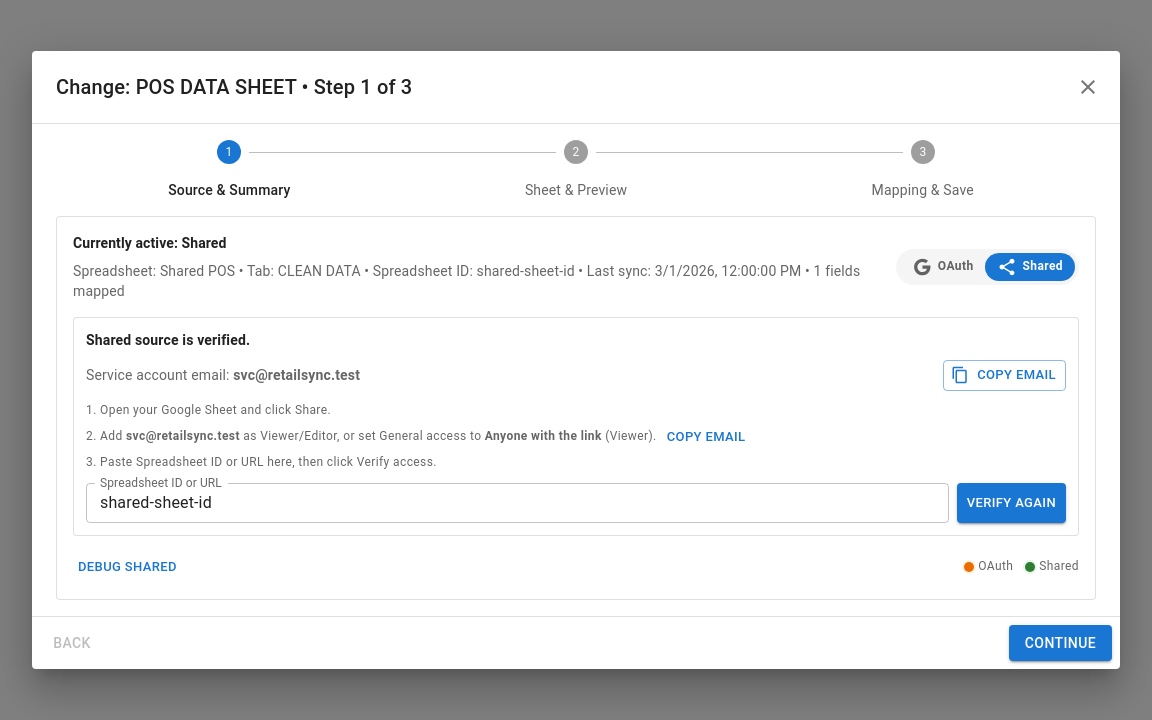
Test: GoogleSheetsSetupInline › shows oauth connected but incomplete guidance and allows continue
What coordinates should you click on to do the following:
click the button with aria-label "OAuth source"
I would click on:
 (943, 267)
Its box is [900,253,986,281].
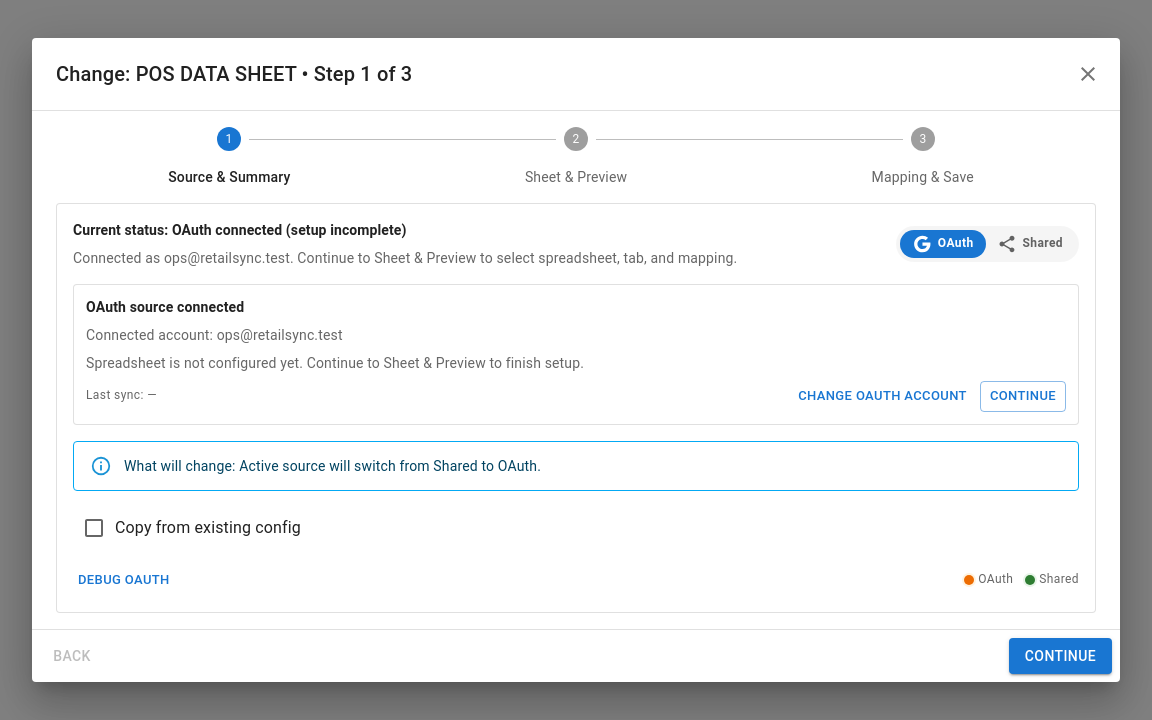
Check: the heading "Current status: OAuth connected (setup incomplete)" is shown, box [73,222,406,238]
Check: the text "Connected account: ops@retailsync.test" is shown, box [86,327,343,343]
Check: the button "Change OAuth account" is shown, box [793,381,972,412]
